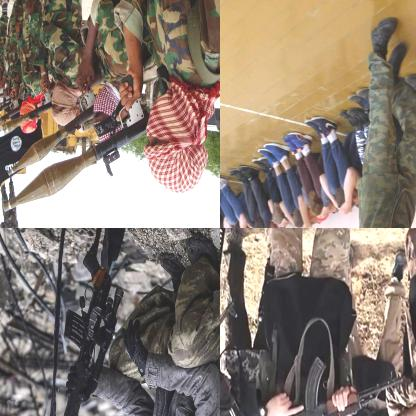rifle: (1, 22, 219, 215), (19, 254, 125, 415), (262, 351, 411, 415), (1, 97, 111, 180), (0, 93, 56, 146), (0, 104, 37, 145)
